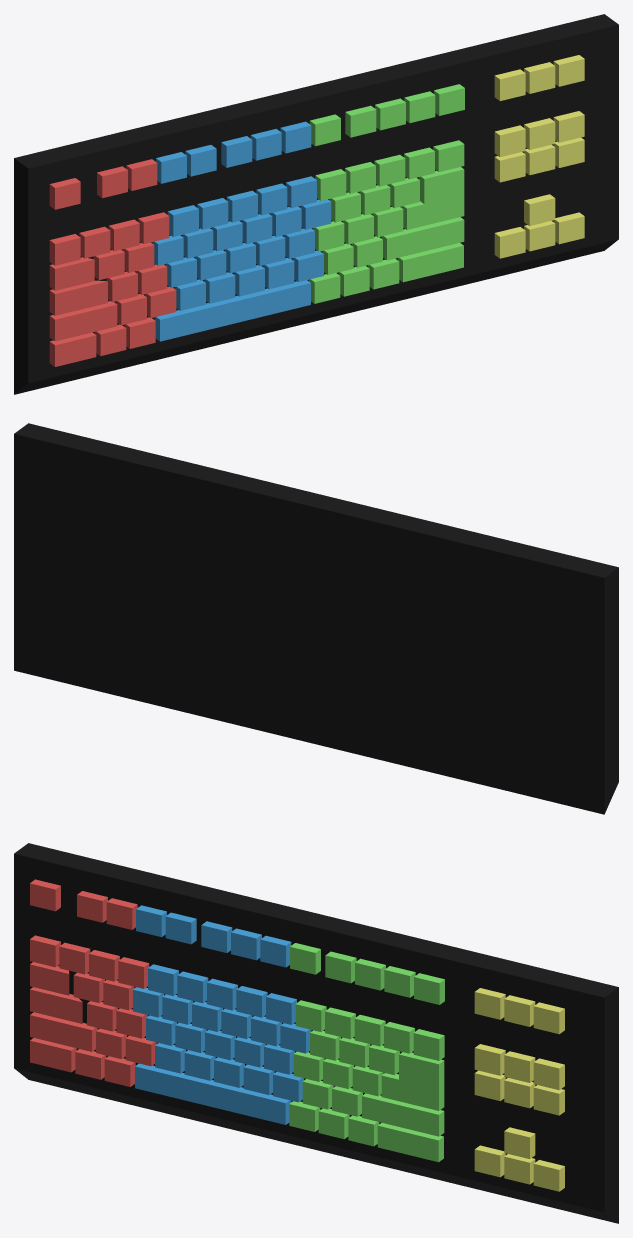
File: WeaponKeyboard.fbx
The picture shows the model from 3 angles, top to bottom: view 1: azimuth 30°, elevation 25°; view 2: azimuth 150°, elevation 25°; view 3: azimuth 330°, elevation 25°; orthographic projection.
Parts seen in each view (by area): view 1: Keyboard; view 2: Keyboard; view 3: Keyboard.
Boxes of the visible parts, box(x1,y1,x2,y2) form: Keyboard: box(14, 14, 618, 394); Keyboard: box(14, 423, 618, 814); Keyboard: box(14, 843, 618, 1223).
Size of the model in its own units: 43 by 16.48 by 2.51.
